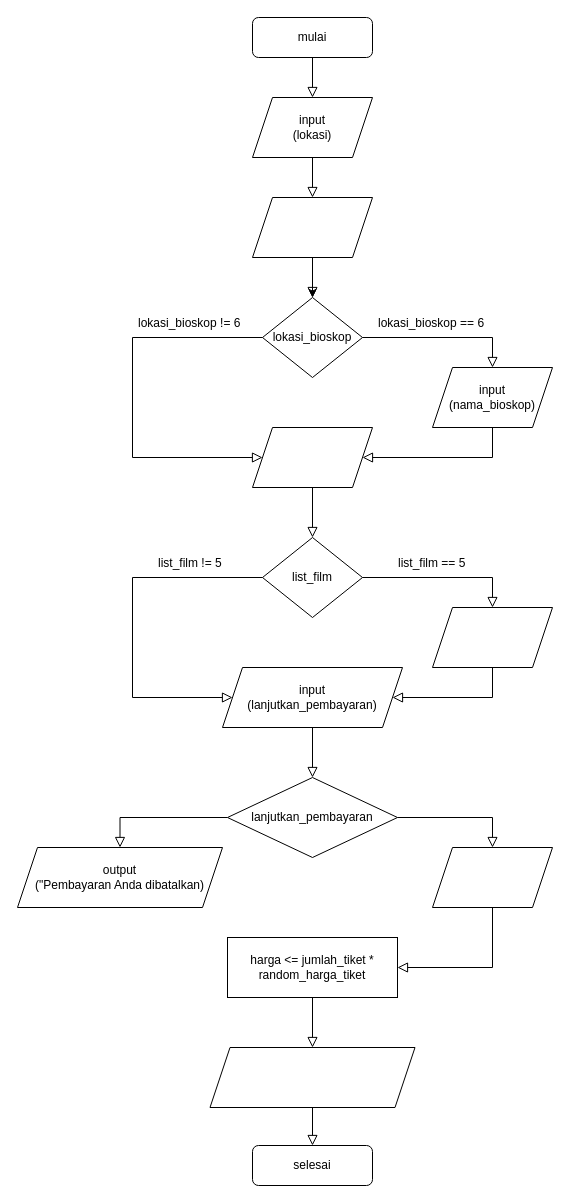
Some shapes in this 570 by 1203 pixel diagram are drawn without their labels. The shapes that lost their labels are listed below. From the top down, each one's centre as x and y in pixels, then its label:
At point 312,227: "input (lokasi_bioskop)".
At point 312,457: "input (list_film)".
At point 492,637: "input (nama_film)".
At point 492,877: "input (jumlah_tiket)".
At point 312,1077: "output (nama_film, jumlah_tiket, harga)".
